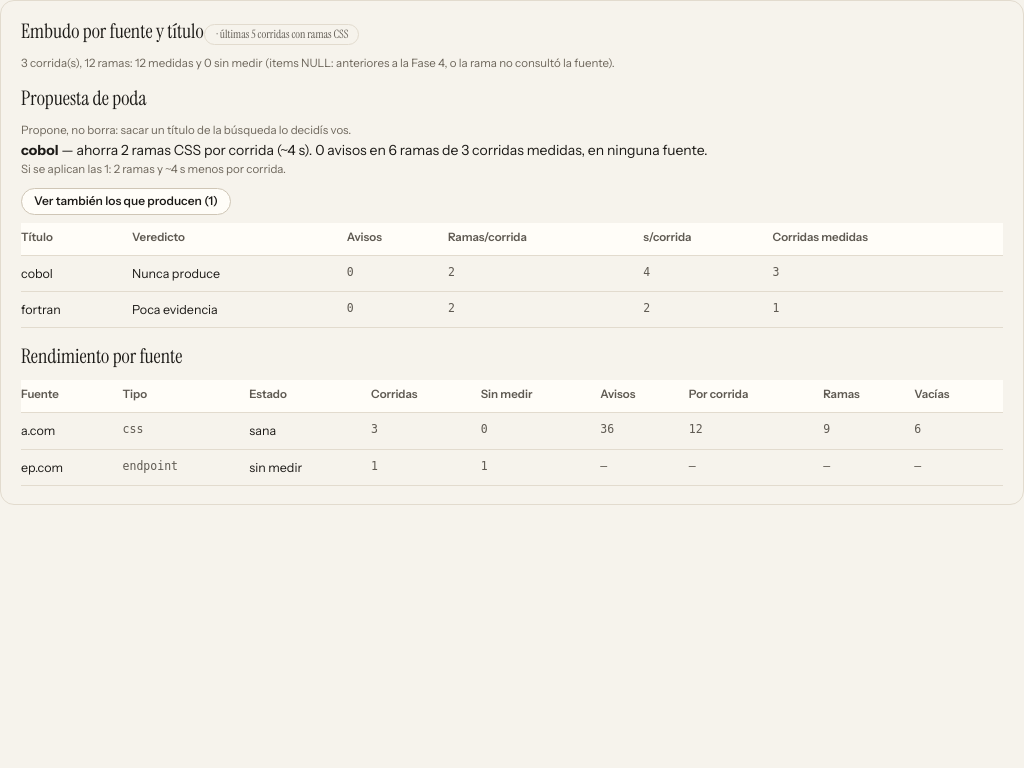
it: EmbudoSection › el botón de «ver también los que producen» funciona
Expected: the list with test id "embudo-propuestas" is shown, [21,140,708,158]
Click the button "Ver también los que producen (1)": (126, 202) [21,188,231,215]
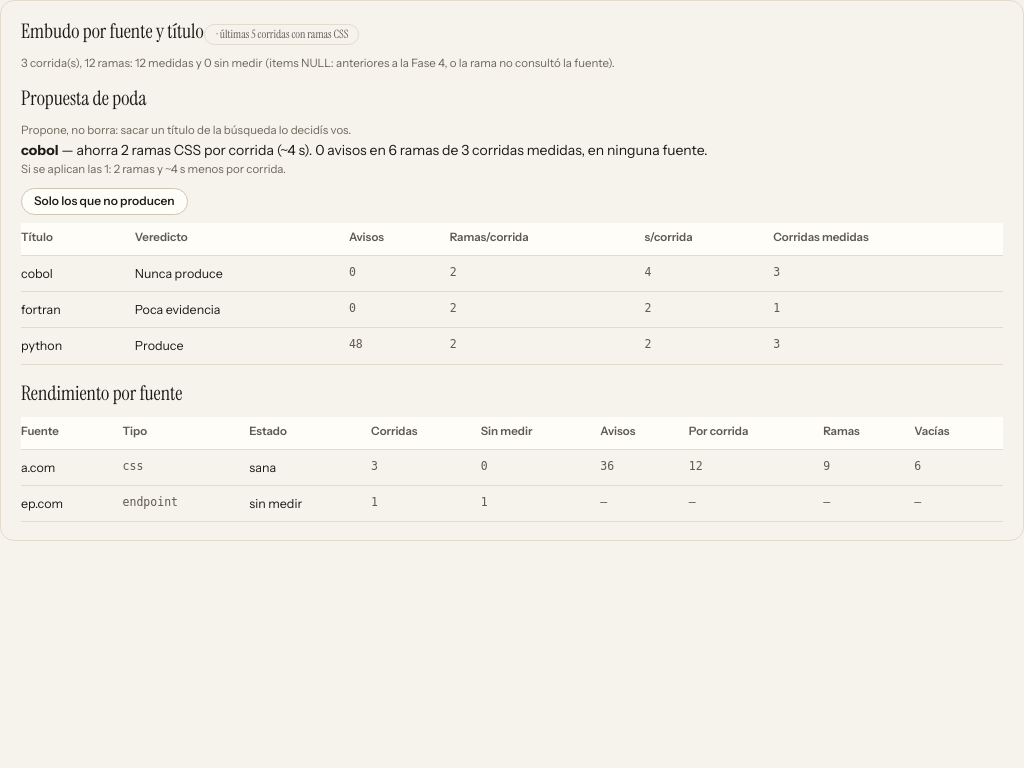
Expected: the row with test id "titulo-fortran" shows "Poca evidencia", [135,302,220,317]
Expected: the row with test id "titulo-python" is shown, [21,328,1003,364]
